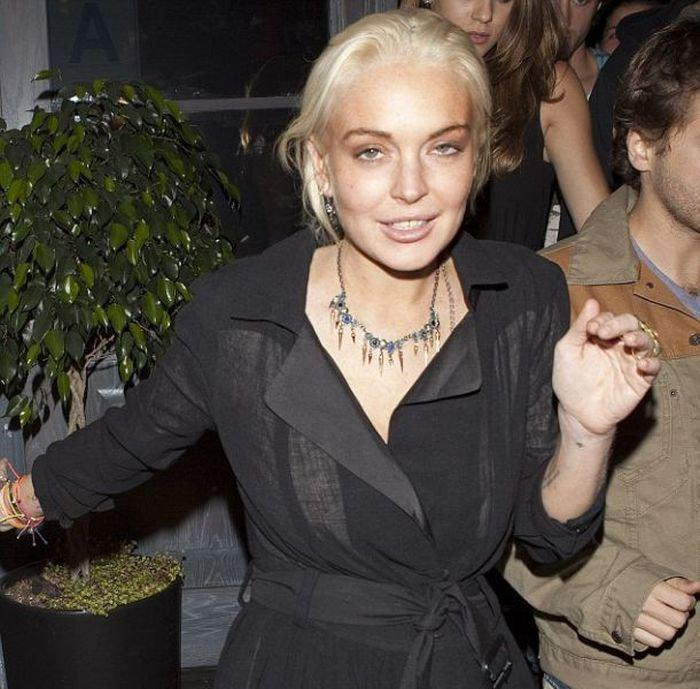Drunk: (332, 69, 475, 274)
